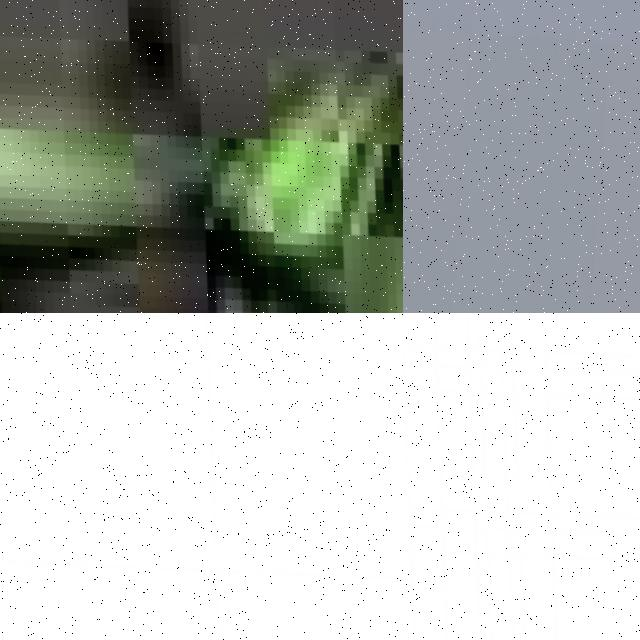0: (0, 0, 403, 313)
drone: (0, 313, 403, 640), (403, 313, 640, 640)
